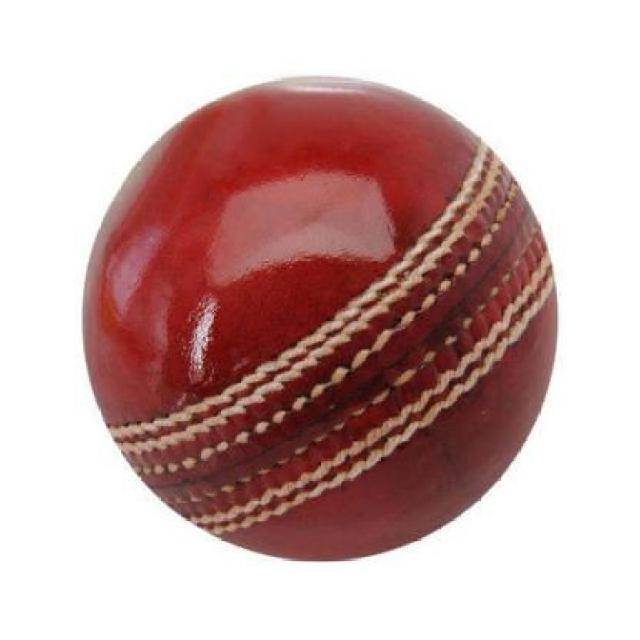ball: (60, 28, 611, 571)
